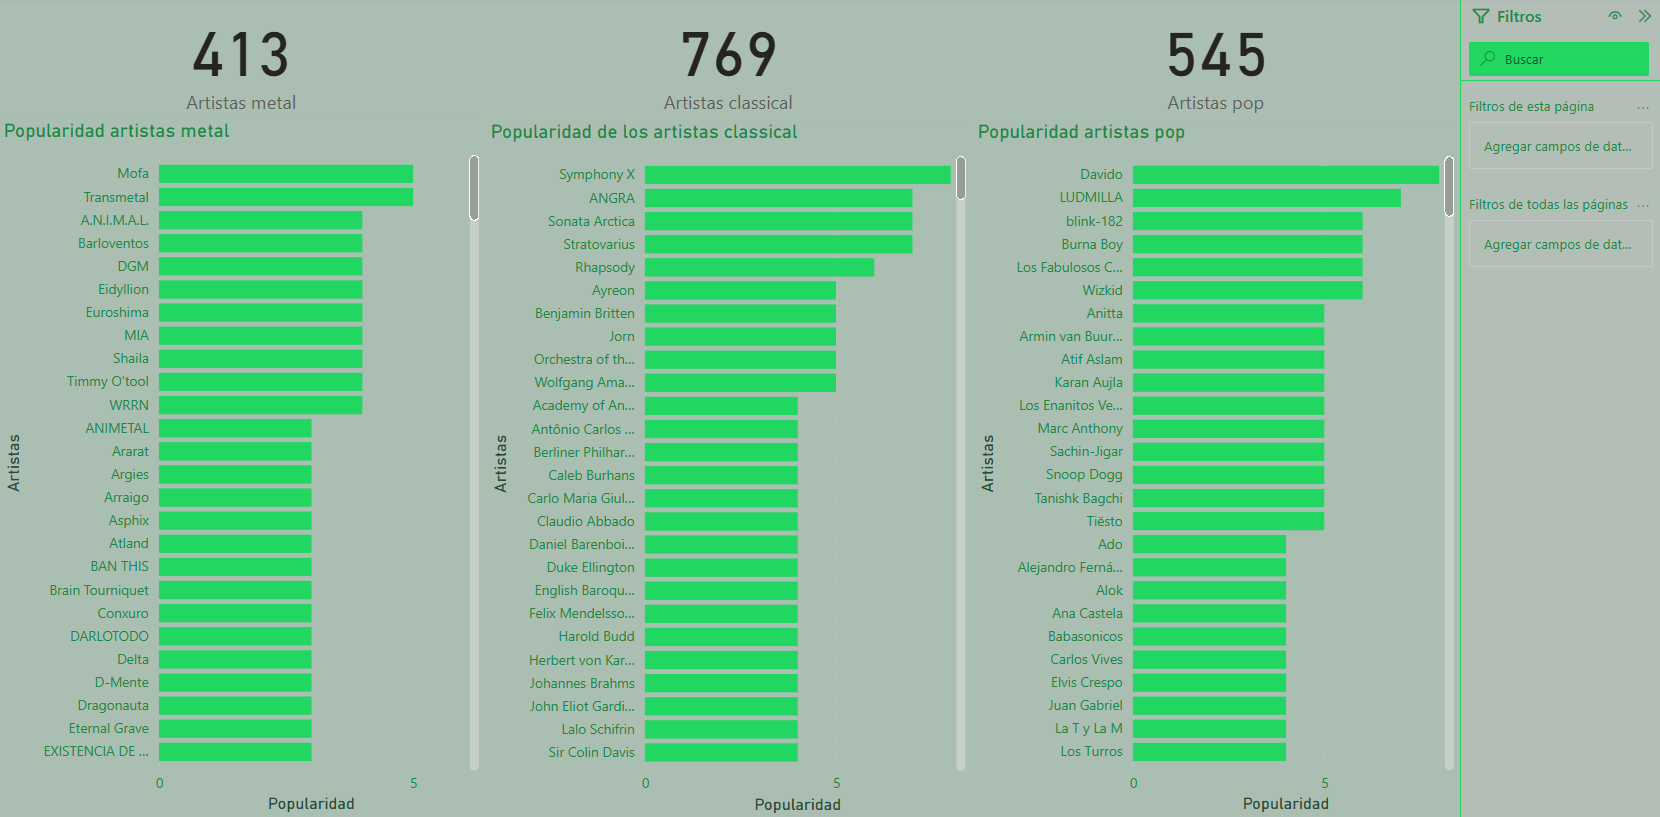

What the dashboard file says about the page in this screenshot:
{"tool":"powerbi","page":{"name":"Comparativa popularidad","canvas":[1280,720],"ordinal":3},"visuals":[{"type":"card","fields":{"Values":["CountNonNull(classical_todo.nombre)"]},"box":[426.4,0,426,107.7],"z":0},{"type":"card","fields":{"Values":["CountNonNull(metal_todo (2).nombre)"]},"box":[0,0,426,107],"z":1000},{"type":"card","fields":{"Values":["CountNonNull(pop_todo.nombre)"]},"box":[852.4,0,427.4,107.9],"z":2000},{"type":"clusteredBarChart","title":"Popularidad artistas metal","fields":{"Category":["metal_todo (2).nombre"],"Y":["CountNonNull(metal_todo (2).popularidad)"]},"box":[0,106.8,426.4,612.9],"z":3000},{"type":"clusteredBarChart","title":"Popularidad de los artistas classical","fields":{"Category":["classical_todo.nombre"],"Y":["CountNonNull(classical_todo.popularidad)"]},"box":[426.6,107.9,425.8,612.1],"z":4000},{"type":"clusteredBarChart","title":"Popularidad artistas pop","fields":{"Category":["pop_todo.nombre"],"Y":["CountNonNull(pop_todo.popularidad)"]},"box":[852.4,107.9,427.4,612.1],"z":5000}]}

Visuals, with their boxes on the page's 1280x720 design canvas (x1, y1, x2, y2). These are canvas units, not pixel positions in the 1660x817 screenshot, which may show the page scaled, cropped or inside an application window:
card - CountNonNull(classical_todo.nombre): (left=426, top=0, right=852, bottom=108)
card - CountNonNull(metal_todo (2).nombre): (left=0, top=0, right=426, bottom=107)
card - CountNonNull(pop_todo.nombre): (left=852, top=0, right=1280, bottom=108)
"Popularidad artistas metal" clusteredBarChart: (left=0, top=107, right=426, bottom=720)
"Popularidad de los artistas classical" clusteredBarChart: (left=427, top=108, right=852, bottom=720)
"Popularidad artistas pop" clusteredBarChart: (left=852, top=108, right=1280, bottom=720)
